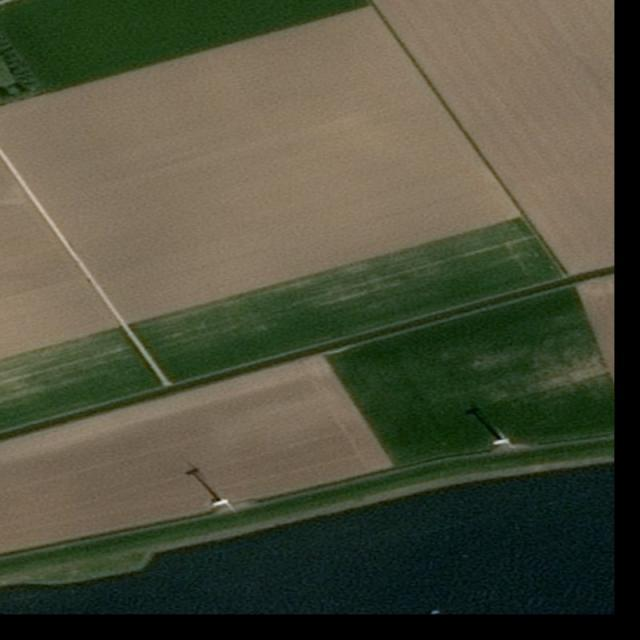ship: (430, 610, 441, 614)
